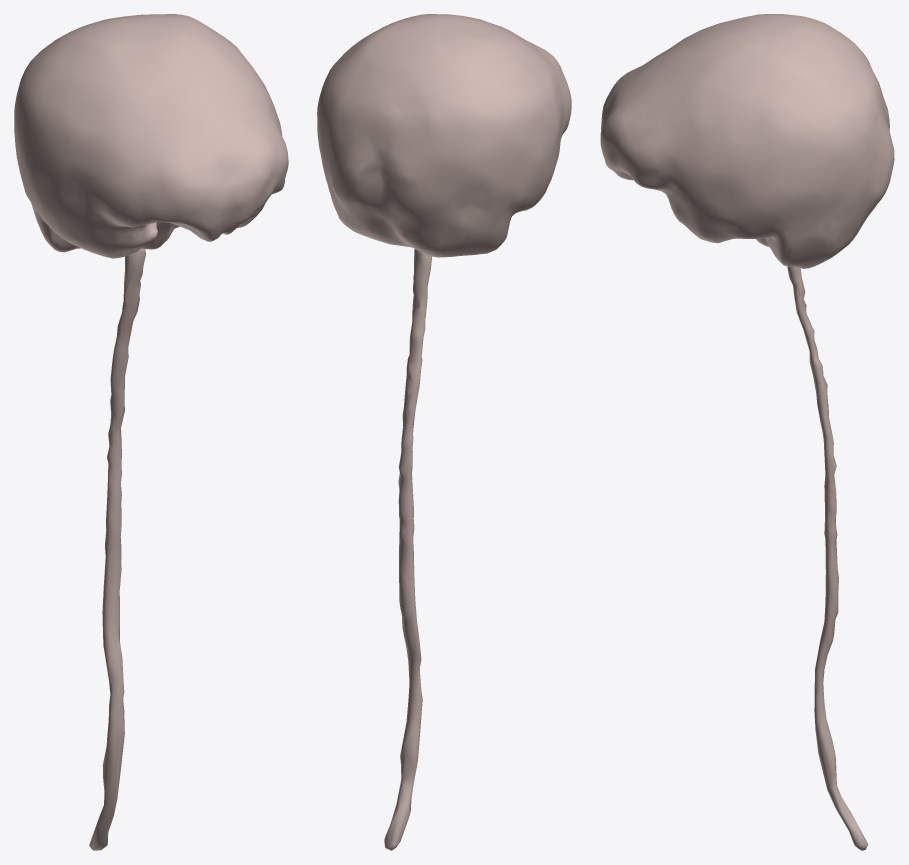
The model's file is pediatric_infant_male.nervous.LOD0.glb.
3 renders of one model, left to right at view 1: azimuth 30°, elevation 25°; view 2: azimuth 150°, elevation 25°; view 3: azimuth 270°, elevation 25°, orthographic. The views are drawn at different scales.
Visible parts, largest first — view 1: PEDIATRIC.INFANT.MALE.NERVOUS.BRAIN, PEDIATRIC.INFANT.MALE.NERVOUS.SPINAL_CORD; view 2: PEDIATRIC.INFANT.MALE.NERVOUS.BRAIN, PEDIATRIC.INFANT.MALE.NERVOUS.SPINAL_CORD; view 3: PEDIATRIC.INFANT.MALE.NERVOUS.BRAIN, PEDIATRIC.INFANT.MALE.NERVOUS.SPINAL_CORD.
Part boxes in pixels (x1,y1,x2,y2): PEDIATRIC.INFANT.MALE.NERVOUS.BRAIN: (14,14,288,258); PEDIATRIC.INFANT.MALE.NERVOUS.SPINAL_CORD: (89,248,145,850); PEDIATRIC.INFANT.MALE.NERVOUS.BRAIN: (317,14,571,257); PEDIATRIC.INFANT.MALE.NERVOUS.SPINAL_CORD: (384,249,432,850); PEDIATRIC.INFANT.MALE.NERVOUS.BRAIN: (600,14,894,268); PEDIATRIC.INFANT.MALE.NERVOUS.SPINAL_CORD: (787,266,868,850).
Size of the model in its own units: 0.1223 by 0.4379 by 0.1426.
